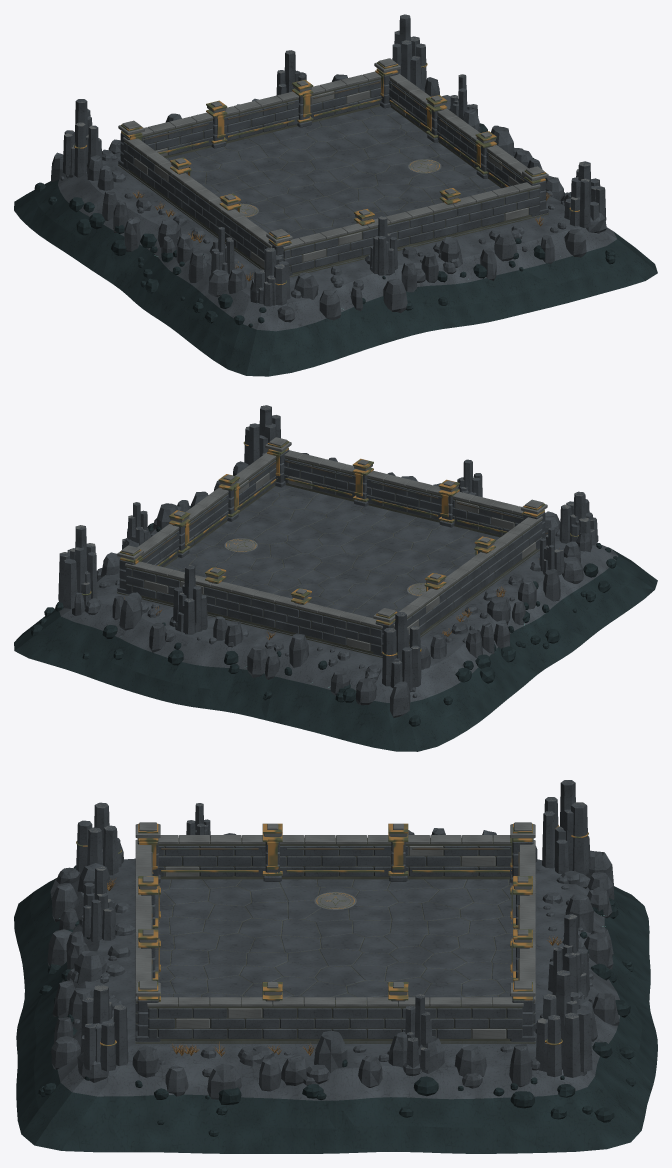
File: realm_07.fbx
3 renders of one model, top to bottom at view 1: azimuth 30°, elevation 25°; view 2: azimuth 150°, elevation 25°; view 3: azimuth 270°, elevation 25°, orthographic. The views are drawn at different scales.
Parts seen in each view (by area): view 1: realm_07__shore, realm_07__closed_walls, realm_07__combat_floor, realm_07__biome_dressing; view 2: realm_07__shore, realm_07__closed_walls, realm_07__combat_floor, realm_07__biome_dressing; view 3: realm_07__shore, realm_07__combat_floor, realm_07__closed_walls, realm_07__biome_dressing.
Part boxes in pixels (left/top/right/bottom): realm_07__shore: left=14, top=74, right=657, bottom=376; realm_07__closed_walls: left=118, top=58, right=548, bottom=275; realm_07__combat_floor: left=118, top=106, right=548, bottom=277; realm_07__biome_dressing: left=60, top=14, right=606, bottom=312; realm_07__shore: left=14, top=453, right=657, bottom=751; realm_07__closed_walls: left=117, top=437, right=547, bottom=656; realm_07__combat_floor: left=117, top=485, right=539, bottom=657; realm_07__biome_dressing: left=58, top=405, right=601, bottom=697; realm_07__shore: left=14, top=828, right=657, bottom=1153; realm_07__combat_floor: left=135, top=879, right=535, bottom=1043; realm_07__closed_walls: left=135, top=822, right=535, bottom=1041; realm_07__biome_dressing: left=67, top=780, right=592, bottom=1099.
Bounding box in the file's own units: 112955 × 112710 × 28734.
